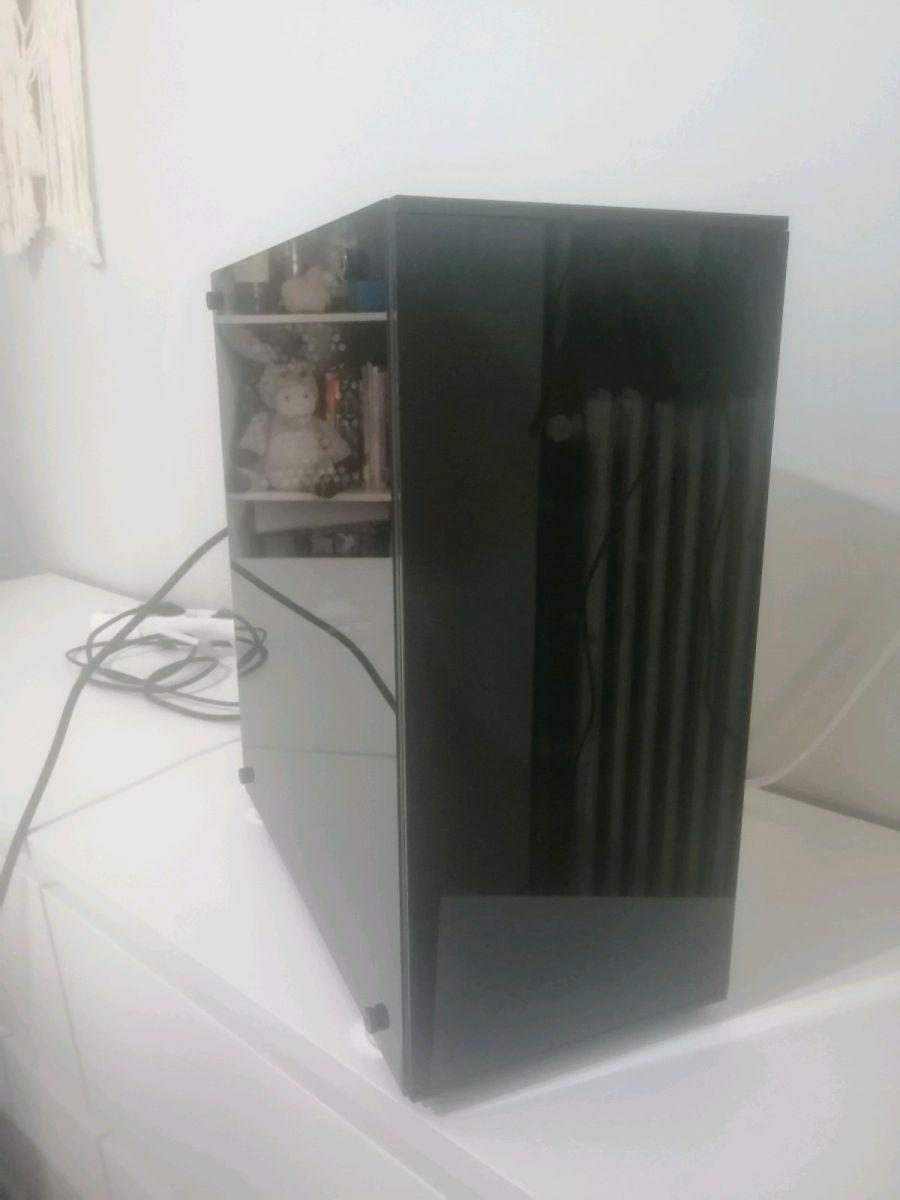DESKTOP PC: (209, 187, 804, 1099)
